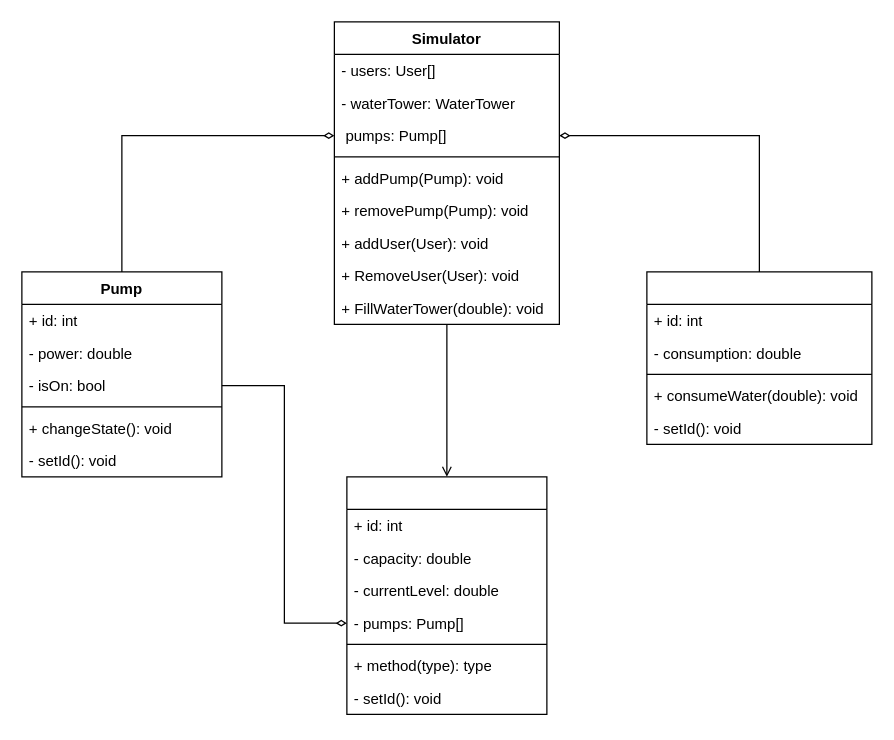
This 894x740 diagram has some shape labels left out. Each missing label, with the box of its shape:
User: (646, 271, 872, 444)
WaterTower: (346, 476, 547, 714)
